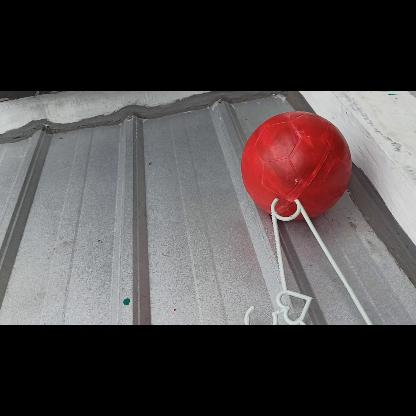red_ball: (240, 110, 350, 220)
